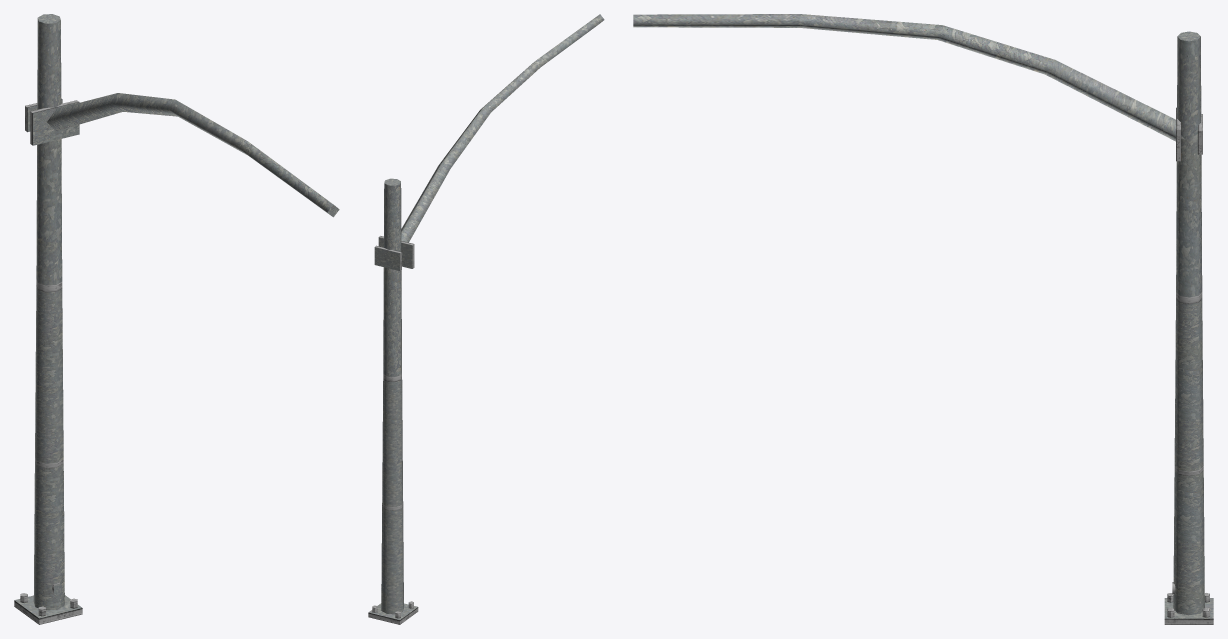
Rendered from Traffic-LightPoleA.fbx.
3 renders of one model, left to right at view 1: azimuth 30°, elevation 25°; view 2: azimuth 150°, elevation 25°; view 3: azimuth 270°, elevation 25°, orthographic. The views are drawn at different scales.
Parts seen in each view (by area): view 1: Traffic-LightPoleA; view 2: Traffic-LightPoleA; view 3: Traffic-LightPoleA.
Boxes of the visible parts, bbox=[...] form: Traffic-LightPoleA: bbox=[14, 14, 339, 624]; Traffic-LightPoleA: bbox=[368, 14, 604, 624]; Traffic-LightPoleA: bbox=[633, 14, 1213, 624].
Bounding box in the file's own units: 75.22 × 948 × 830.
